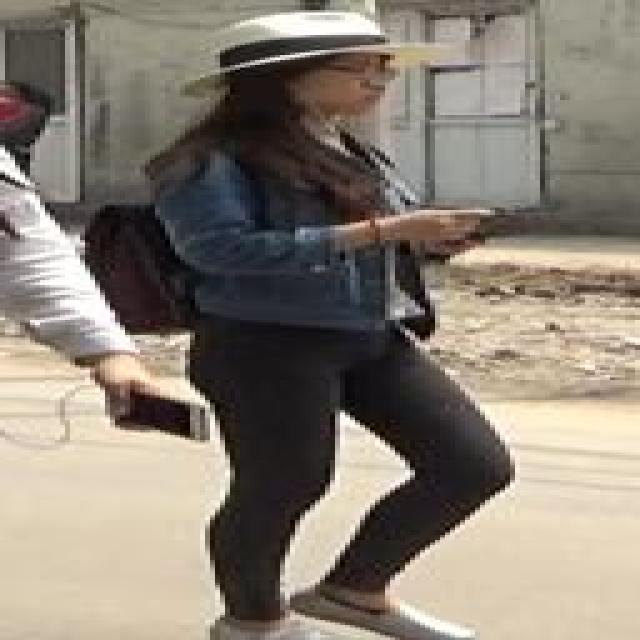adult: (158, 18, 528, 640)
